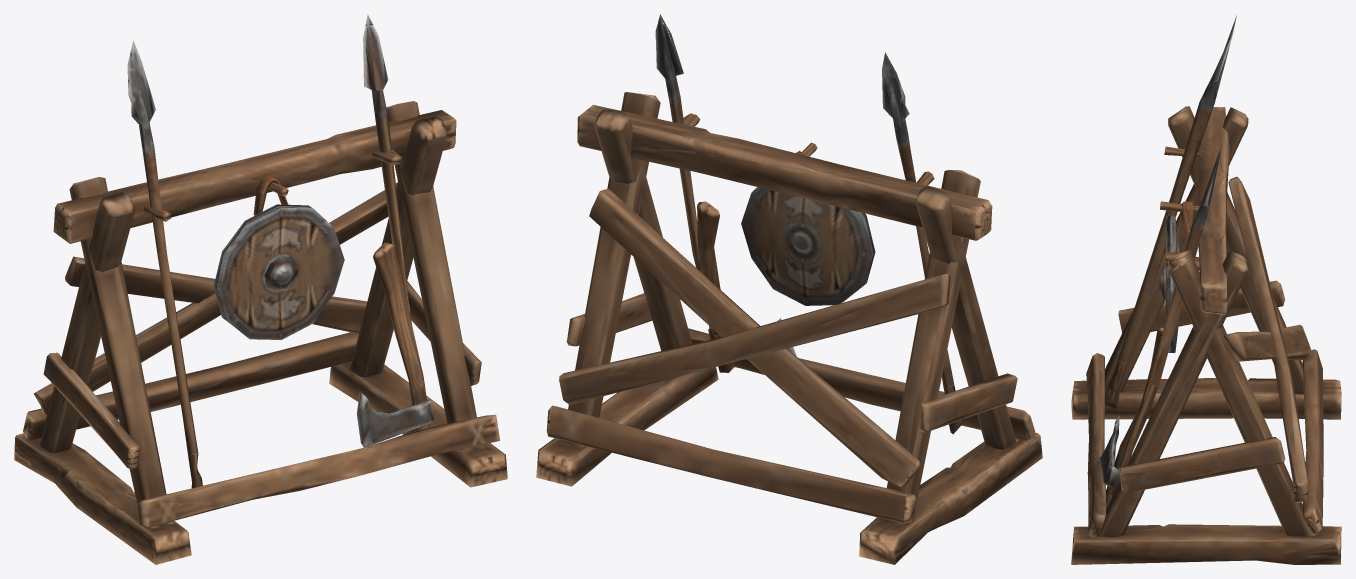
The model's file is prop_weapon_rack.glb.
The picture shows the model from 3 angles, left to right: view 1: azimuth 30°, elevation 25°; view 2: azimuth 150°, elevation 25°; view 3: azimuth 270°, elevation 25°; orthographic projection. The views are drawn at different scales.
Size of the model in its own units: 1.48 by 1.6 by 0.9339.
1 material, 1 textured.
